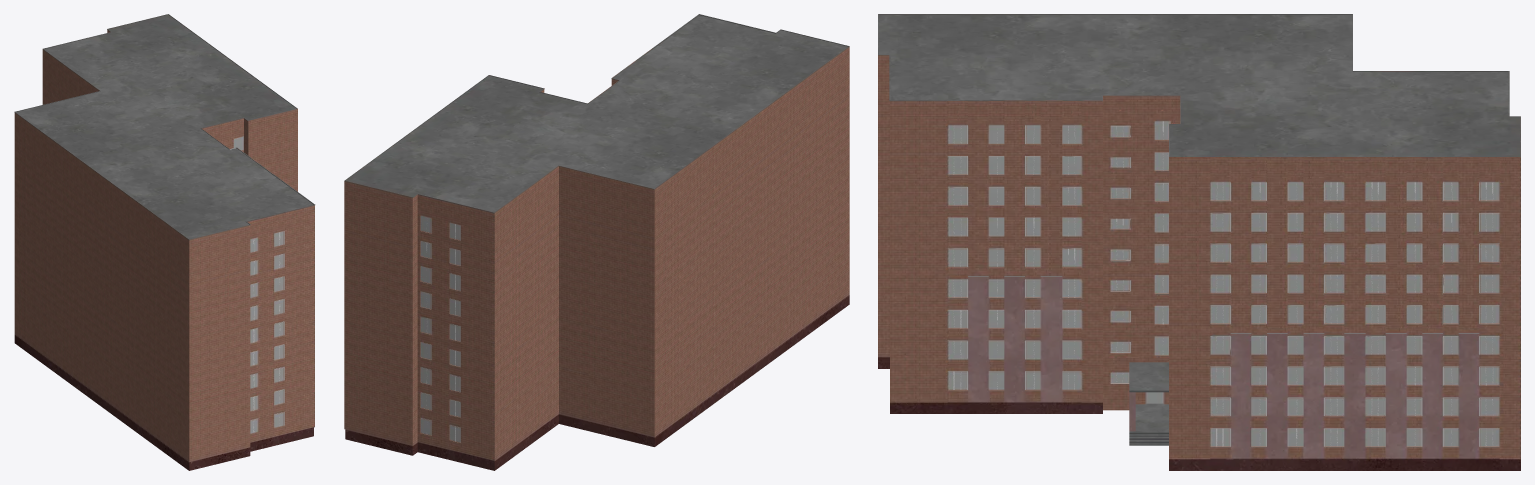
The model's file is hostel-transformed.glb.
The picture shows the model from 3 angles, left to right: view 1: azimuth 30°, elevation 25°; view 2: azimuth 150°, elevation 25°; view 3: azimuth 270°, elevation 25°; orthographic projection. The views are drawn at different scales.
Visible parts, largest first — view 1: polySurface732_obch1_initialShadingGroup_0; view 2: polySurface732_obch1_initialShadingGroup_0; view 3: polySurface732_obch1_initialShadingGroup_0.
Boxes of the visible parts, box(x1,y1,x2,y2) form: polySurface732_obch1_initialShadingGroup_0: box(14, 14, 315, 470); polySurface732_obch1_initialShadingGroup_0: box(344, 14, 849, 470); polySurface732_obch1_initialShadingGroup_0: box(878, 14, 1520, 470).
Bounding box in the file's own units: 13.06 × 13.38 × 24.79.
Materials: 1 (1 with a texture image).
